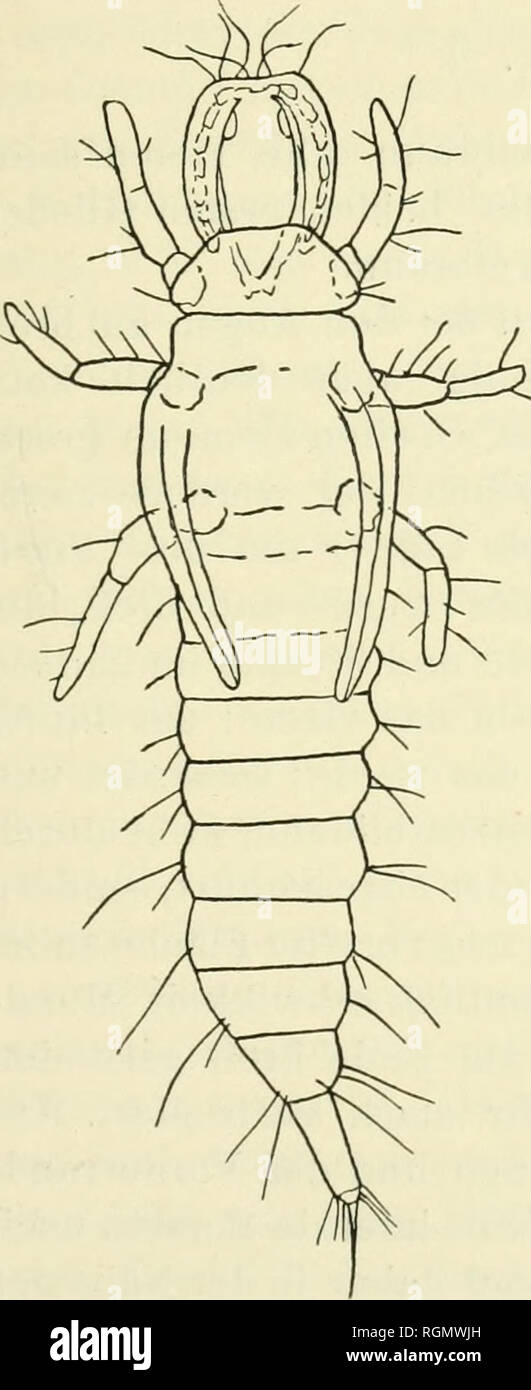Phlaeothripidae: (1, 7, 524, 1271)
